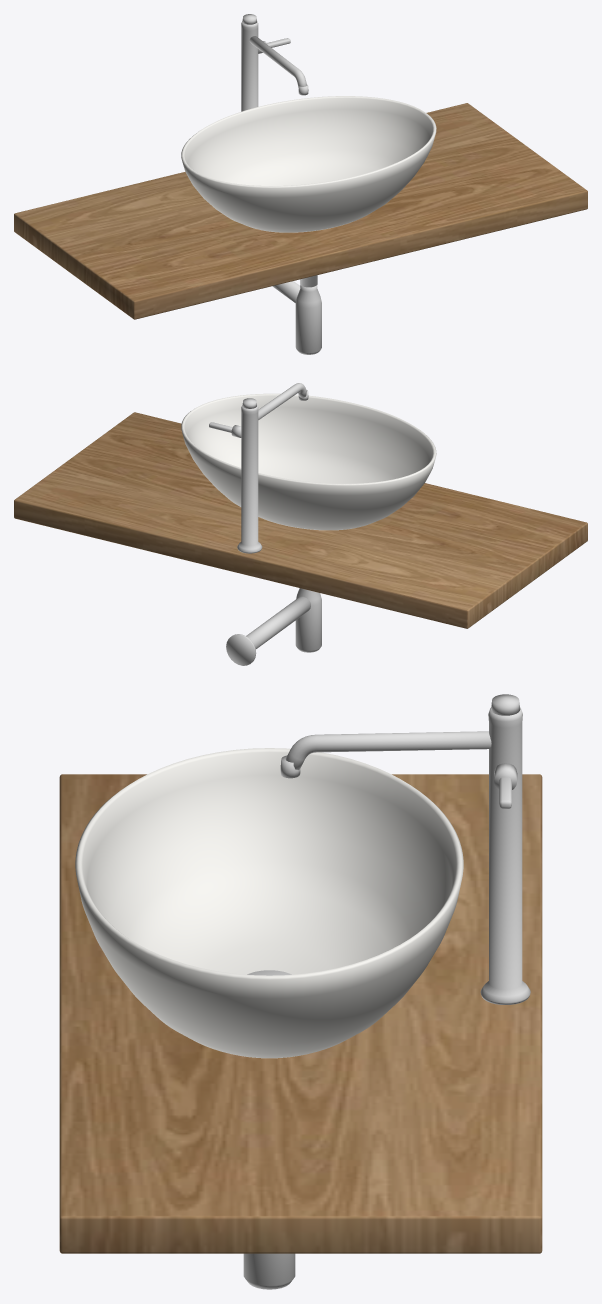
File: lavabo_sobre_encimera_ovalado_100.glb
3 renders of one model, top to bottom at view 1: azimuth 30°, elevation 25°; view 2: azimuth 150°, elevation 25°; view 3: azimuth 270°, elevation 25°, orthographic. The views are drawn at different scales.
Parts seen in each view (by area): view 1: lavabo_sobre_encimera_ovalado_100; view 2: lavabo_sobre_encimera_ovalado_100; view 3: lavabo_sobre_encimera_ovalado_100.
Part boxes in pixels (bbox=[...]): lavabo_sobre_encimera_ovalado_100: bbox=[14, 14, 587, 354]; lavabo_sobre_encimera_ovalado_100: bbox=[14, 383, 587, 665]; lavabo_sobre_encimera_ovalado_100: bbox=[59, 694, 542, 1289].
Size of the model in its own units: 1 by 0.612 by 0.46.
3 materials, 1 textured.
